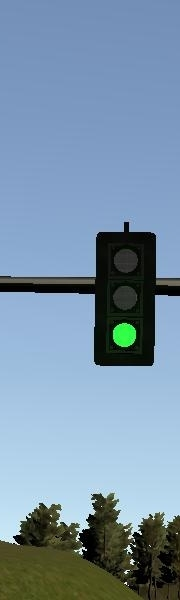Green: (95, 230, 156, 369)
